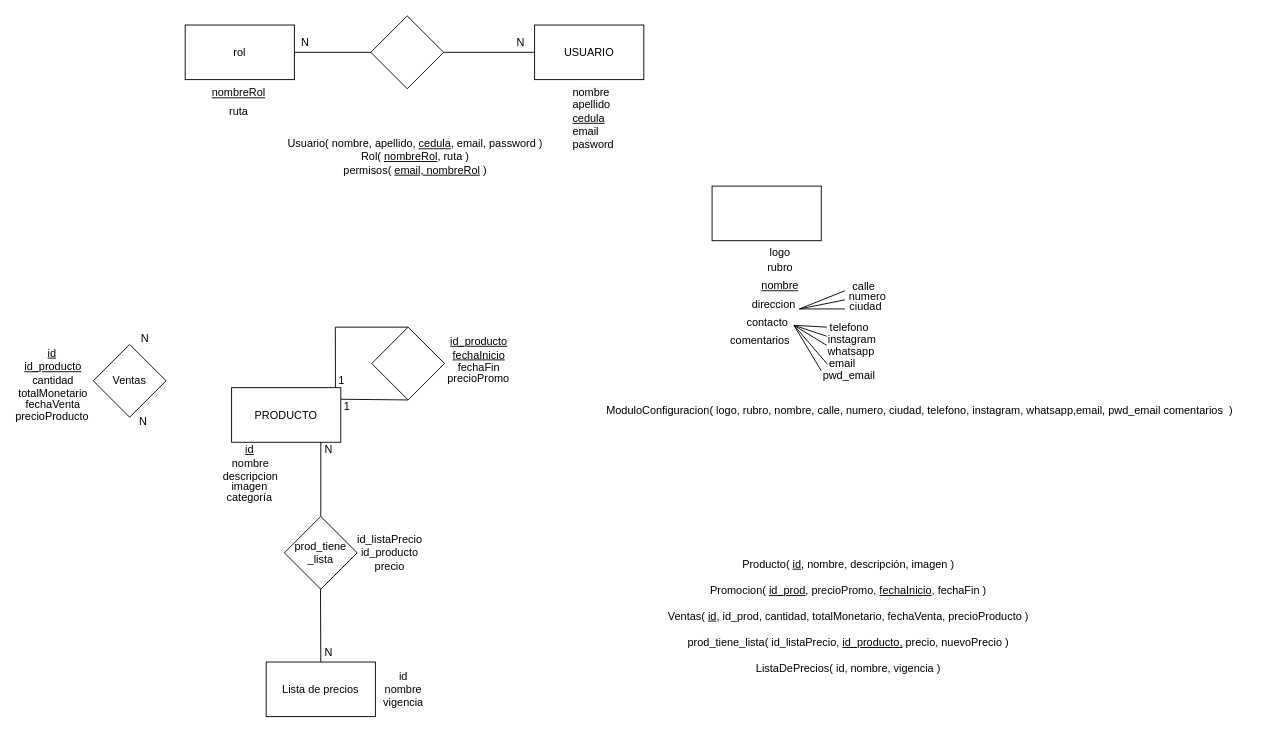
The diagram is 1265 pixels wide and 737 high, and some of its shapes have lost their labels. Here are the shapes that lost their labels. From the top down, the centre of each, then its label:
At (407,52): "permiso".
At (766,213): "DATOS_EMPRESA".
At (408,363): "Promociones".
